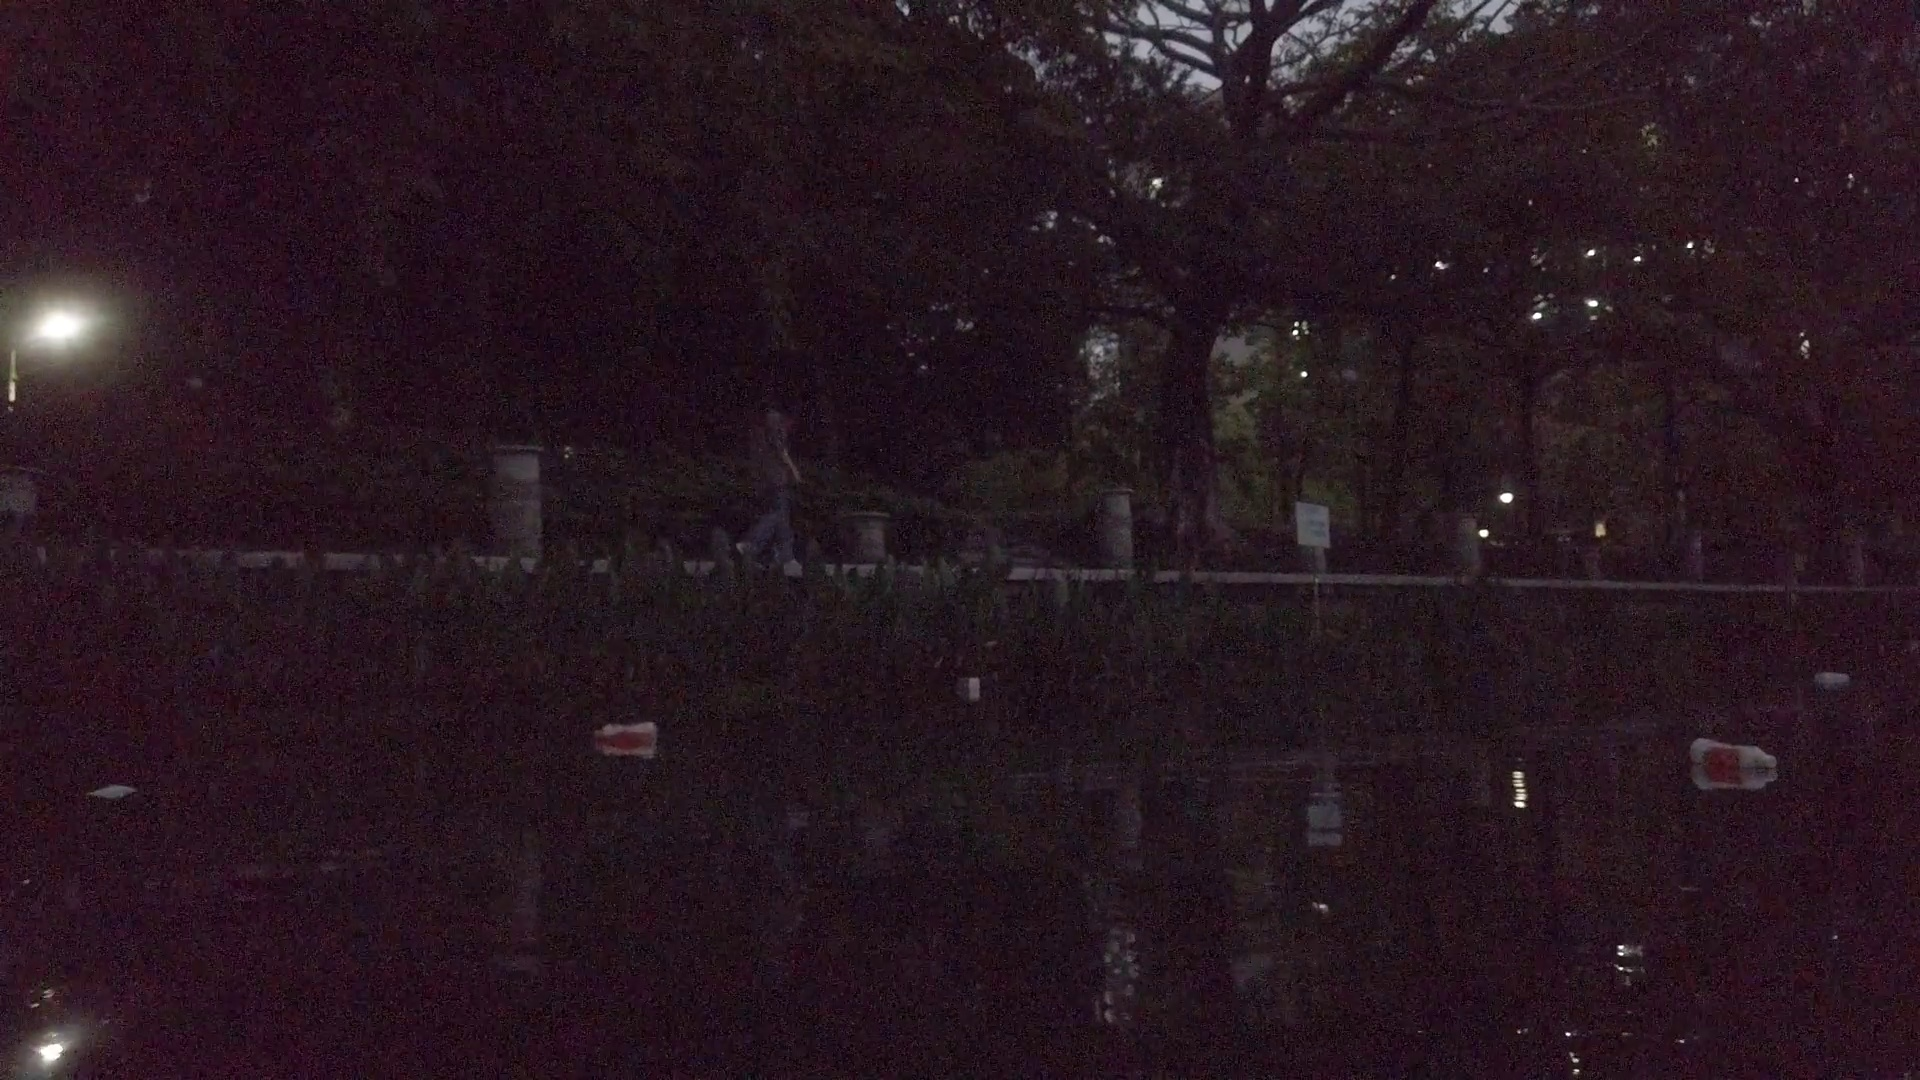bottle: (1692, 733, 1780, 769), (592, 719, 661, 745)
carton: (1811, 667, 1847, 686), (961, 675, 980, 696)
paper: (90, 786, 133, 800)
